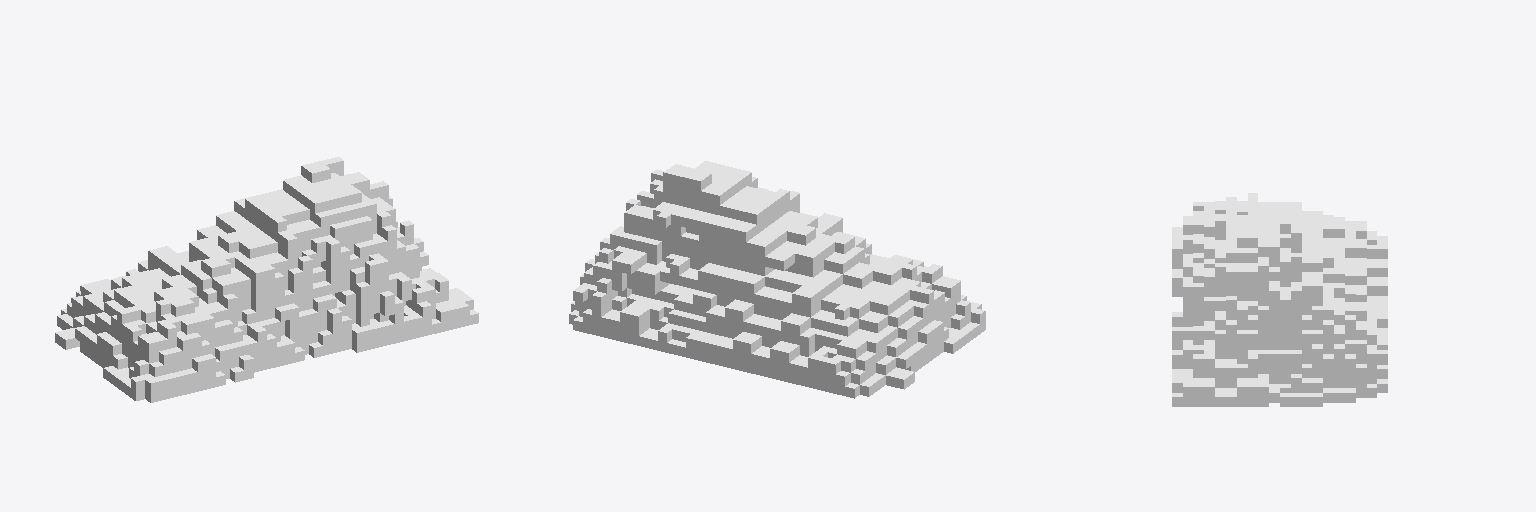
Rendered from MelochevkaLes-5.obj.
3 views of the same model, side by side, from view 1: azimuth 30°, elevation 25°; view 2: azimuth 150°, elevation 25°; view 3: azimuth 270°, elevation 25° (orthographic).
Parts seen in each view (by area): view 1: object 1; view 2: object 1; view 3: object 1.
Part boxes in pixels (left/top/right/bottom): object 1: left=55, top=157, right=478, bottom=402; object 1: left=569, top=161, right=985, bottom=398; object 1: left=1172, top=193, right=1387, bottom=406.
Bounding box in the file's own units: 3.6 × 1.4 × 2.